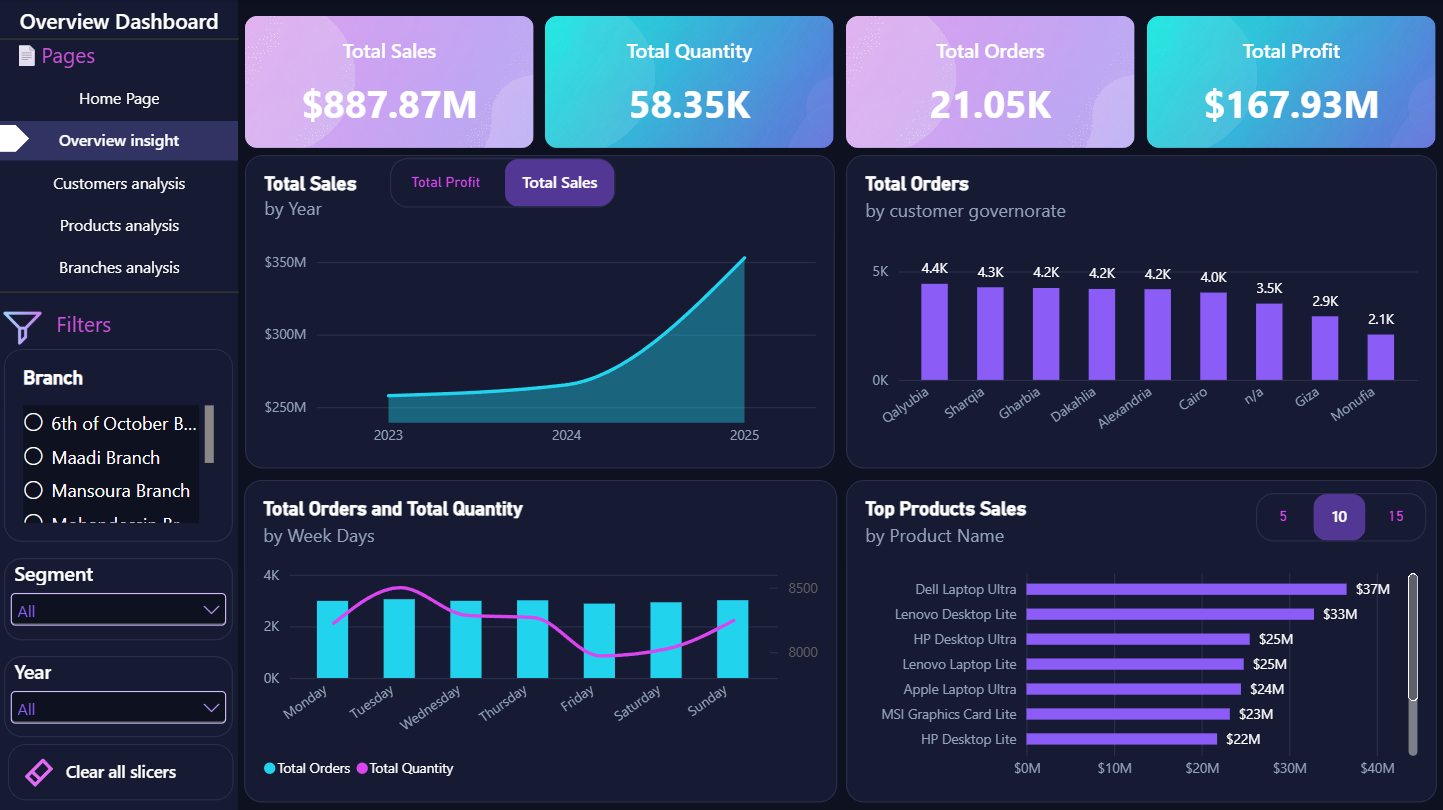

The page's visual inventory and layout, read from the dashboard file:
{"tool":"powerbi","page":{"name":"Overview","canvas":[1280,720],"ordinal":1},"visuals":[{"type":"shape","box":[0,0,211.5,720],"z":0},{"type":"cardVisual","fields":{"Data":["_Measures.Total Sales"]},"box":[217,14.2,256.9,117.3],"z":1000},{"type":"cardVisual","fields":{"Data":["_Overview Measures.Total Quantity"]},"box":[483.7,14.2,256.9,117.3],"z":2000},{"type":"cardVisual","fields":{"Data":["_Overview Measures.Total Orders"]},"box":[750.3,14.2,256.9,117.3],"z":3000},{"type":"cardVisual","fields":{"Data":["_Overview Measures.Total Profit"]},"box":[1017,14.2,256.9,117.3],"z":4000},{"type":"textbox","box":[0,5,211.5,36.9],"z":5000,"group":"g2"},{"type":"actionButton","box":[0,182.5,211.5,35],"z":5000},{"type":"textbox","box":[6.3,35,83,31.5],"z":6000,"group":"g2"},{"type":"actionButton","box":[0,220,211.5,35],"z":6000},{"type":"shape","box":[0,252.9,211.5,12.6],"z":7000},{"type":"textbox","box":[0,273.6,148.5,35.1],"z":8000},{"type":"image","box":[0,273.6,39.6,34.2],"z":9000},{"type":"slicer","fields":{"Values":["gold fact_sales.Year"]},"box":[3.9,582,203,72],"z":10000},{"type":"slicer","fields":{"Values":["gold report_customers.customer_segment"]},"box":[3.5,495,203,72.9],"z":11000},{"type":"actionButton","box":[7.2,660,200,50],"z":12000},{"type":"actionButton","box":[0,70,211.5,35],"z":13000},{"type":"actionButton","box":[0,107.5,211,35],"z":13000,"group":"g1"},{"type":"group","id":"g1","title":"Group 1","box":[0,107.5,211,35],"z":14000},{"type":"shape","box":[0,111.1,26,23.9],"z":14000,"group":"g1"},{"type":"lineChart","fields":{"Category":["gold fact_sales.order_date Hierarchy.Year","gold fact_sales.order_date Hierarchy.Month"],"Y":["_Measures.Total Sales"]},"box":[217.2,137.4,523.2,278.4],"z":15000},{"type":"advancedSlicerVisual","fields":{"Values":["sales_overtime_parameter.sales_overtime_parameter"]},"box":[345.8,140.1,200.4,44.3],"z":16000},{"type":"clusteredColumnChart","fields":{"Category":["gold report_customers.city"],"Y":["CountNonNull(gold fact_sales.order_number)"]},"box":[750.1,137.4,524,278.4],"z":17000},{"type":"lineClusteredColumnComboChart","fields":{"Category":["gold fact_sales.day_name"],"Y":["_Overview Measures.Total Orders"],"Y2":["_Overview Measures.Total Quantity"]},"box":[216.6,425.4,525.8,285.5],"z":18000},{"type":"clusteredBarChart","fields":{"Category":["gold dim_products.product_name"],"Y":["_Overview Measures.Top Products Sales"]},"box":[750.3,425.4,523.8,285.5],"z":19000},{"type":"advancedSlicerVisual","fields":{"Values":["Top x product by Sales.Top x product by Sales"]},"box":[1113.6,437.2,150.7,43.4],"z":20000},{"type":"listSlicer","fields":{"Values":["gold report_branches.branch_name"]},"box":[3.5,309.5,203.1,171.1],"z":21000},{"type":"actionButton","box":[0,145,211.5,35],"z":22000},{"type":"group","id":"g2","title":"Group 2","box":[0,5,211.5,61.5],"z":23000},{"type":"shape","box":[0,28.4,211.5,12.6],"z":24000,"group":"g2"}]}

Visuals, with their boxes on the page's 1280x720 design canvas (x1, y1, x2, y2). These are canvas units, not pixel positions in the 1443x810 screenshot, which may show the page scaled, cropped or inside an application window:
shape: l=0, t=0, r=212, b=720
cardVisual - _Measures.Total Sales: l=217, t=14, r=474, b=132
cardVisual - _Overview Measures.Total Quantity: l=484, t=14, r=741, b=132
cardVisual - _Overview Measures.Total Orders: l=750, t=14, r=1007, b=132
cardVisual - _Overview Measures.Total Profit: l=1017, t=14, r=1274, b=132
textbox: l=0, t=5, r=212, b=42
actionButton: l=0, t=182, r=212, b=218
textbox: l=6, t=35, r=89, b=66
actionButton: l=0, t=220, r=212, b=255
shape: l=0, t=253, r=212, b=266
textbox: l=0, t=274, r=148, b=309
image: l=0, t=274, r=40, b=308
slicer - gold fact_sales.Year: l=4, t=582, r=207, b=654
slicer - gold report_customers.customer_segment: l=4, t=495, r=206, b=568
actionButton: l=7, t=660, r=207, b=710
actionButton: l=0, t=70, r=212, b=105
actionButton: l=0, t=108, r=211, b=142
"Group 1" group: l=0, t=108, r=211, b=142
shape: l=0, t=111, r=26, b=135
lineChart - gold fact_sales.order_date Hierarchy.Year x gold fact_sales.order_date Hierarchy.Month: l=217, t=137, r=740, b=416
advancedSlicerVisual - sales_overtime_parameter.sales_overtime_parameter: l=346, t=140, r=546, b=184
clusteredColumnChart - gold report_customers.city x CountNonNull(gold fact_sales.order_number): l=750, t=137, r=1274, b=416
lineClusteredColumnComboChart - gold fact_sales.day_name x _Overview Measures.Total Orders: l=217, t=425, r=742, b=711
clusteredBarChart - gold dim_products.product_name x _Overview Measures.Top Products Sales: l=750, t=425, r=1274, b=711
advancedSlicerVisual - Top x product by Sales.Top x product by Sales: l=1114, t=437, r=1264, b=481
listSlicer - gold report_branches.branch_name: l=4, t=310, r=207, b=481
actionButton: l=0, t=145, r=212, b=180
"Group 2" group: l=0, t=5, r=212, b=66
shape: l=0, t=28, r=212, b=41
